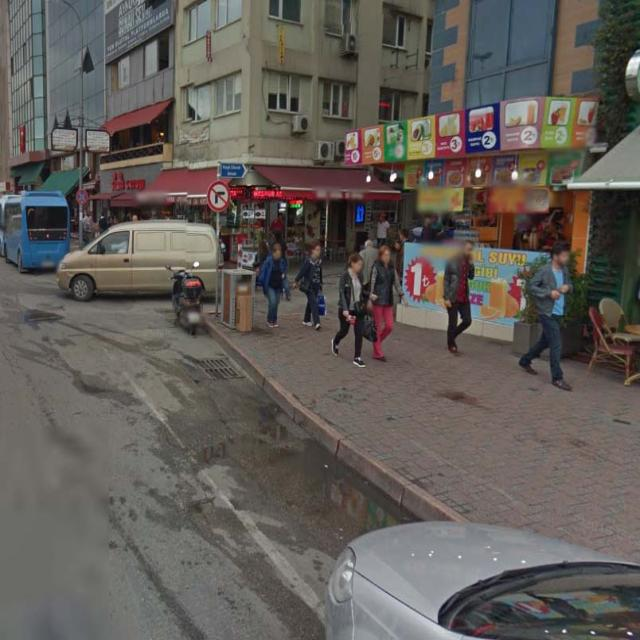sagadonulmez: (206, 181, 229, 210)
